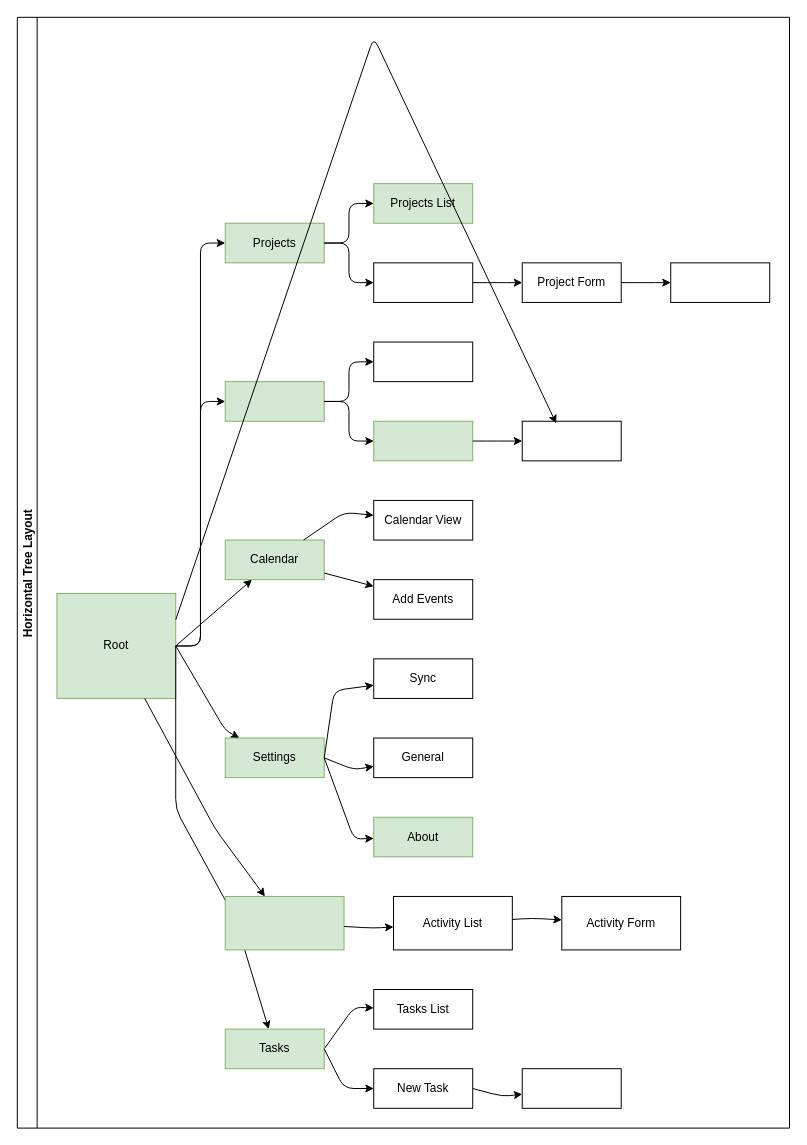
Image size: 807x1145. Some labels were removed from this diagram. Here are the shapes that lost their labels. From the top down, the centre of each, then its label:
At (423,282): "Add Projects".
At (720,282): "Contacts Module".
At (423,361): "Time Sheets".
At (274,401): "Time Sheet".
At (423,440): "Add New TS".
At (571,440): "Time Sheet Form".
At (284,922): "Activity".
At (571,1088): "Task Form".
